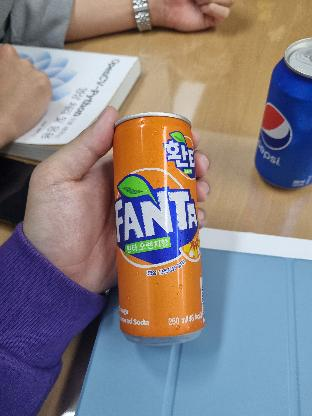Can: (108, 102, 216, 336)
